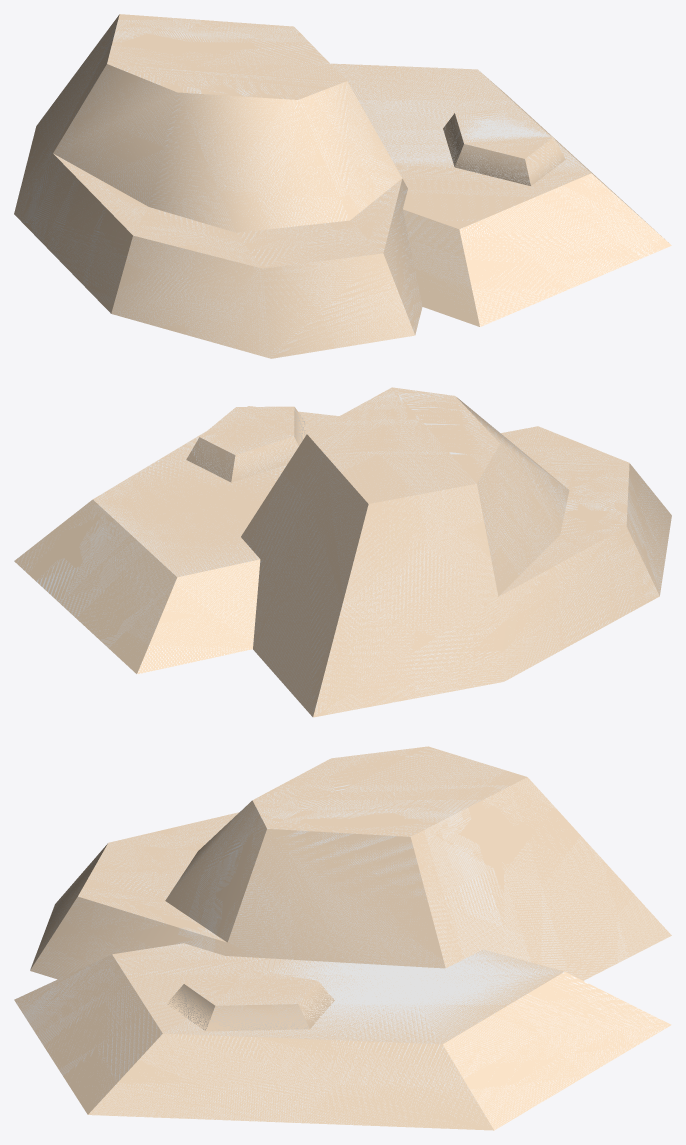
Rendered from water_ice_5.glb.
The picture shows the model from 3 angles, top to bottom: view 1: azimuth 30°, elevation 25°; view 2: azimuth 150°, elevation 25°; view 3: azimuth 270°, elevation 25°; orthographic projection. The views are drawn at different scales.
Parts seen in each view (by area): view 1: rock_single_E; view 2: rock_single_E; view 3: rock_single_E.
Part boxes in pixels (left/top/right/bottom): rock_single_E: left=14, top=14, right=671, bottom=358; rock_single_E: left=14, top=387, right=671, bottom=717; rock_single_E: left=14, top=746, right=671, bottom=1130.
Bounding box in the file's own units: 0.6658 × 0.1948 × 0.7015.
1 material, 1 textured.
